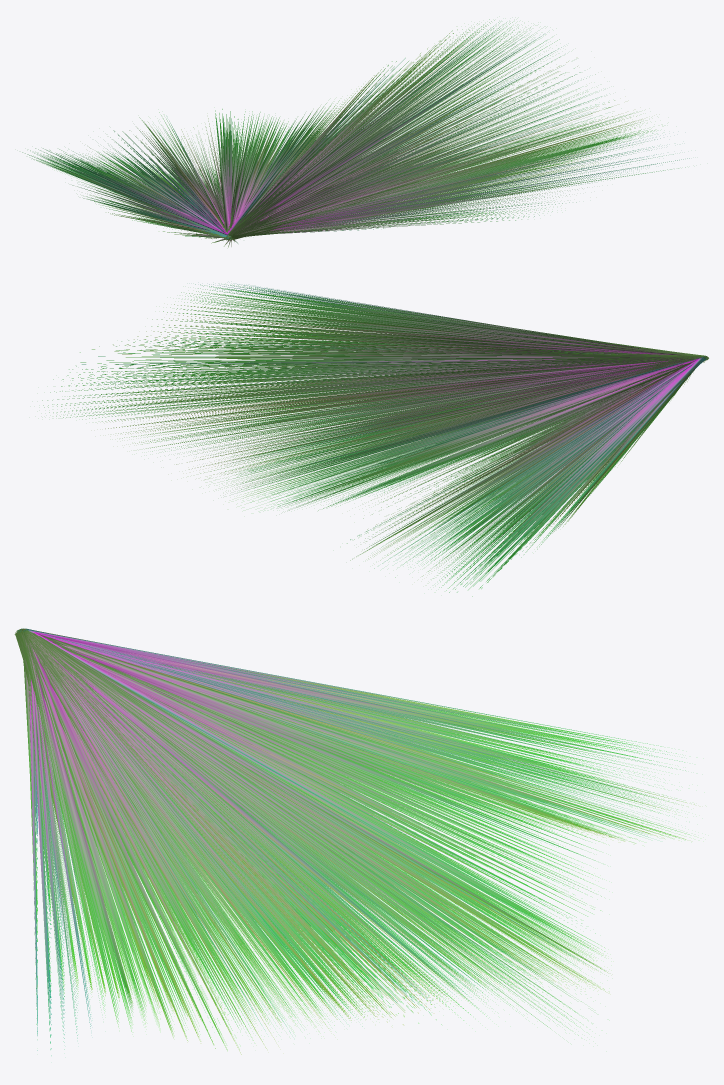
3 views of the same model, one above another, from view 1: azimuth 30°, elevation 25°; view 2: azimuth 150°, elevation 25°; view 3: azimuth 270°, elevation 25° (orthographic). The views are drawn at different scales.
Parts seen in each view (by area): view 1: Terrain; view 2: Terrain; view 3: Terrain.
Part boxes in pixels (x1,y1,x2,y2): Terrain: (22, 19, 689, 247); Terrain: (42, 284, 708, 596); Terrain: (14, 628, 694, 1055).
Size of the model in its own units: 63.68 by 10.84 by 50.74.
